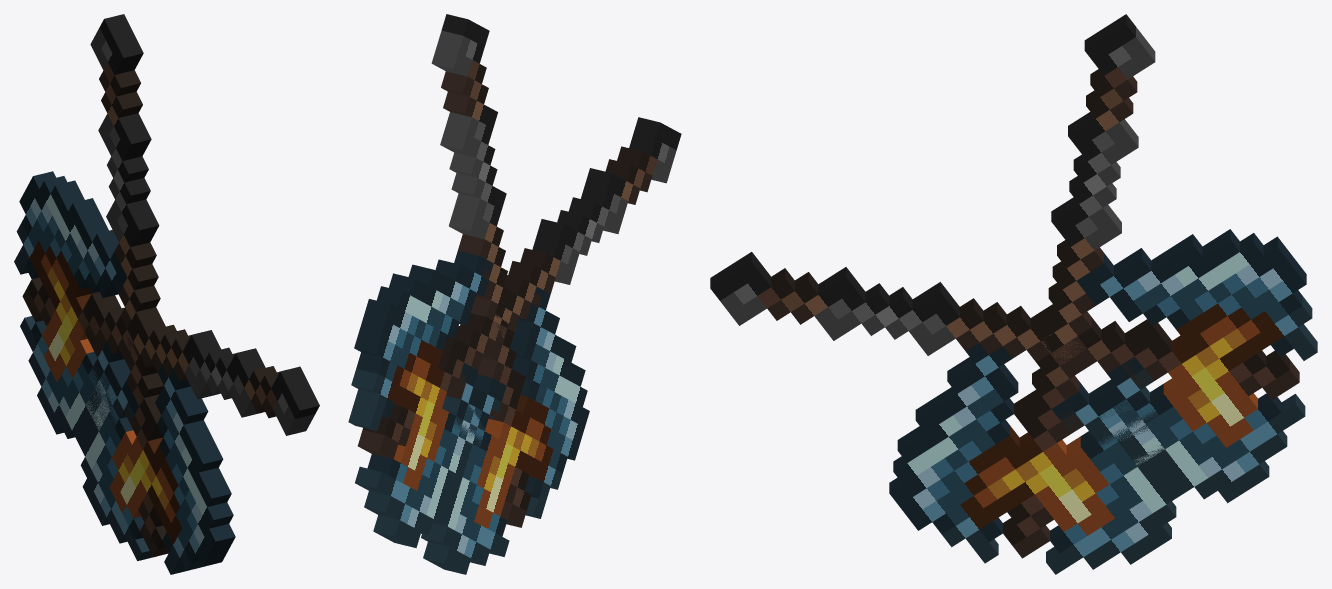
Rendered from cobalt_greataxe.glb.
3 views of the same model, side by side, from view 1: azimuth 30°, elevation 25°; view 2: azimuth 150°, elevation 25°; view 3: azimuth 270°, elevation 25° (orthographic). The views are drawn at different scales.
Visible parts, largest first — view 1: off__Tool_L, main__Tool_R; view 2: main__Tool_R, off__Tool_L; view 3: main__Tool_R, off__Tool_L.
Part boxes in pixels (box(x1,y1,x2,y2)): off__Tool_L: box(78, 14, 235, 574); main__Tool_R: box(14, 171, 319, 443); main__Tool_R: box(348, 117, 681, 548); off__Tool_L: box(421, 14, 589, 574); main__Tool_R: box(710, 229, 1317, 503); off__Tool_L: box(889, 14, 1180, 574).
Size of the model in its own units: 0.0875 by 2.15 by 2.15.
1 material, 1 textured.
